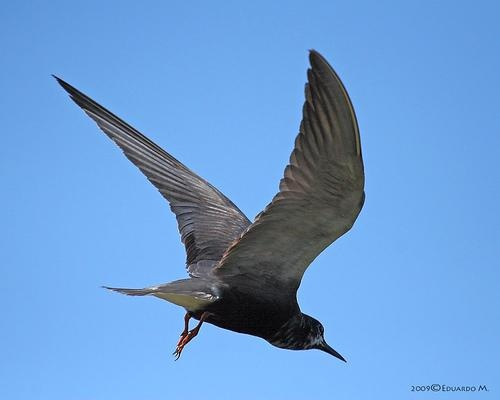bird: (38, 47, 369, 367)
